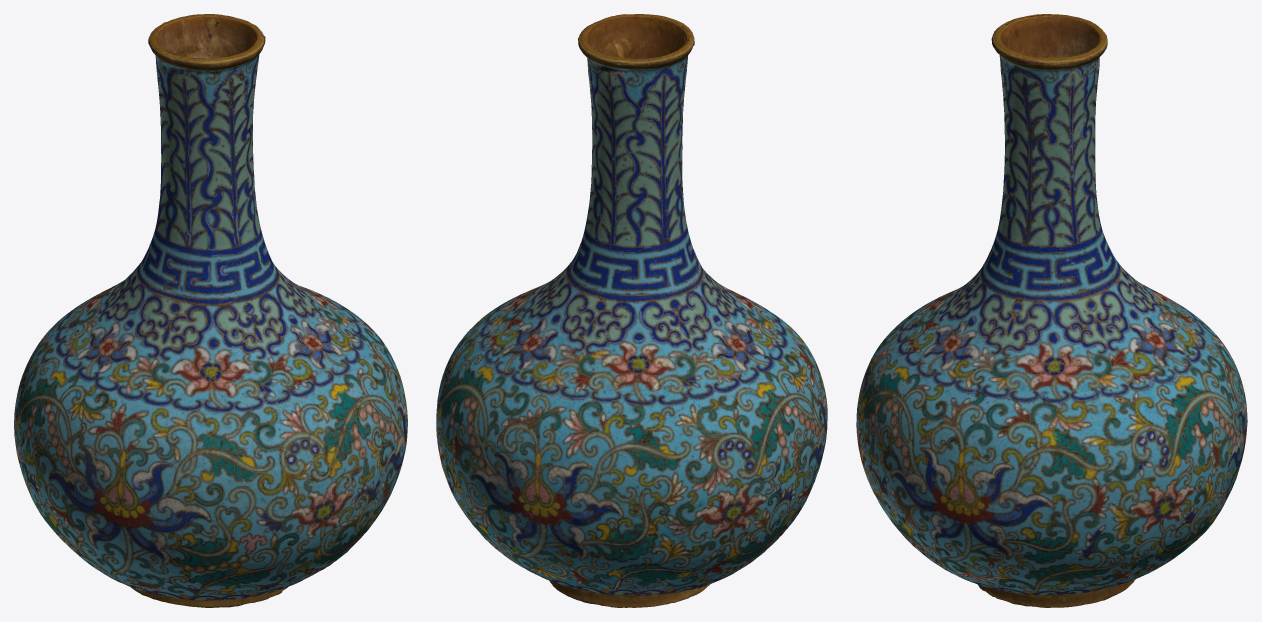
Rendered from cloisonne_vase.glb.
3 renders of one model, left to right at view 1: azimuth 30°, elevation 25°; view 2: azimuth 150°, elevation 25°; view 3: azimuth 270°, elevation 25°, orthographic.
Visible parts, largest first — view 1: Object_2; view 2: Object_2; view 3: Object_2.
Boxes of the visible parts, box(x1,y1,x2,y2) form: Object_2: box(14, 14, 407, 607); Object_2: box(436, 14, 827, 607); Object_2: box(856, 14, 1247, 607).
Bounding box in the file's own units: 0.2984 × 0.453 × 0.2991.
1 material, 1 textured.
